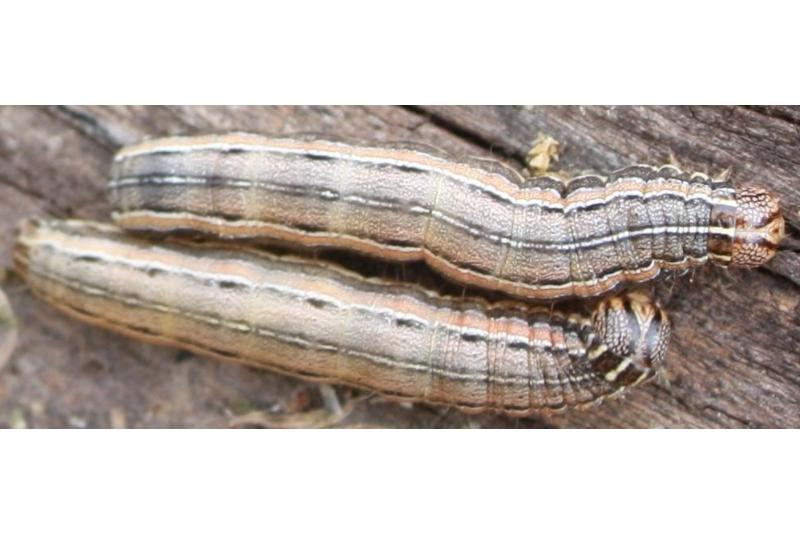fall-armyworm: (9, 218, 675, 418), (109, 129, 786, 300)
